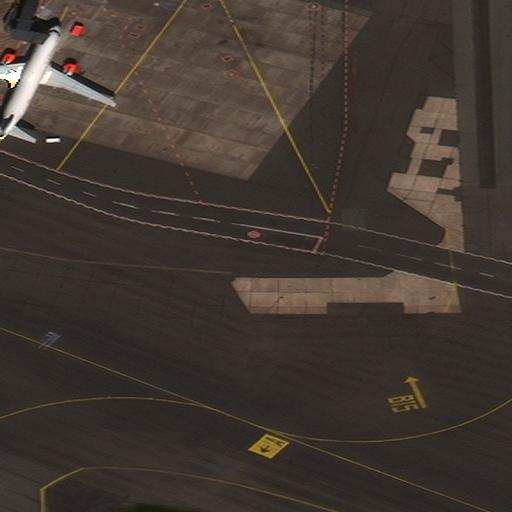Medium Civil Transport: (0, 23, 114, 142)
